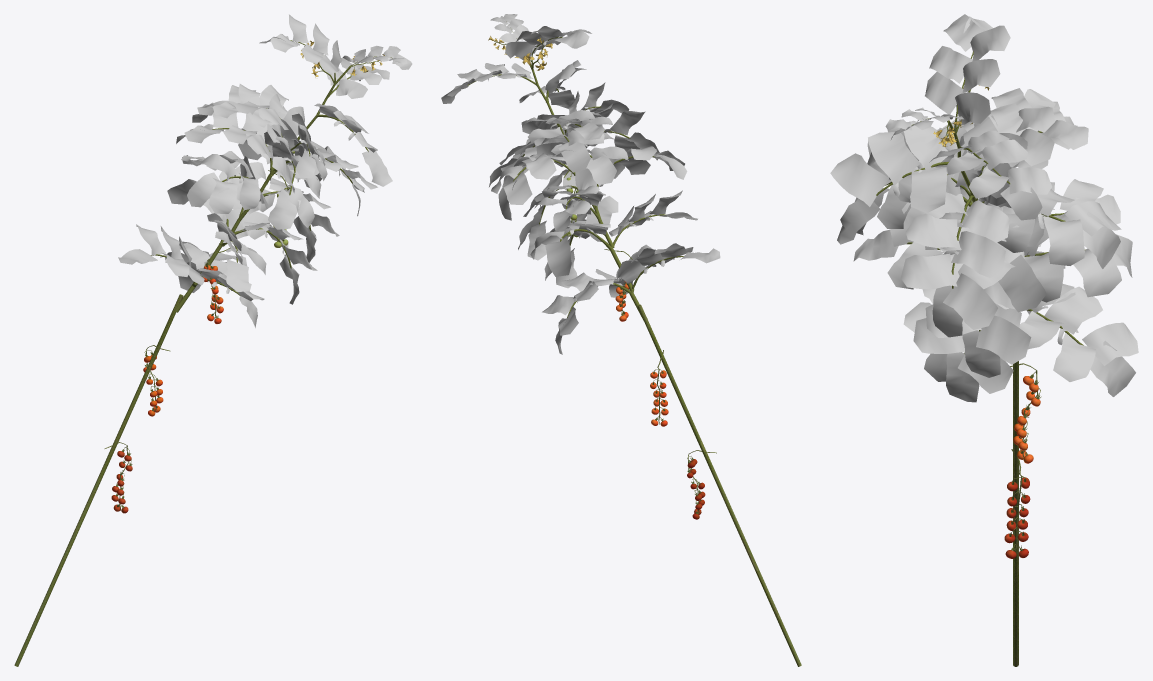
The model's file is tomato_vine_repo_v5.dae.
The picture shows the model from 3 angles, left to right: view 1: azimuth 30°, elevation 25°; view 2: azimuth 150°, elevation 25°; view 3: azimuth 270°, elevation 25°; orthographic projection. The views are drawn at different scales.
Parts seen in each view (by area): view 1: Leaf1, Branch1, Sphere.013; view 2: Leaf1, Branch1, Sphere.013; view 3: Leaf1, Branch1, Sphere.001, Sphere.013.
Boxes of the visible parts, x1,y1,x2,y2 form: Leaf1: (118, 14, 412, 327); Branch1: (14, 40, 392, 666); Sphere.013: (143, 265, 223, 416); Leaf1: (441, 14, 720, 354); Branch1: (467, 31, 801, 666); Sphere.013: (615, 281, 668, 426); Leaf1: (830, 14, 1138, 402); Branch1: (876, 51, 1085, 666); Sphere.001: (1004, 477, 1030, 558); Sphere.013: (1013, 376, 1040, 463).
Bounding box in the file's own units: 1.66 × 0.8755 × 2.58.
